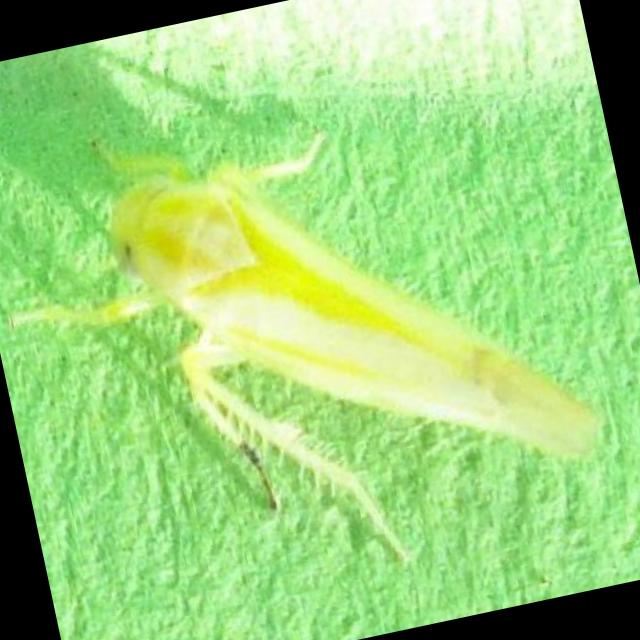green-leafhopper: (94, 92, 600, 568)
